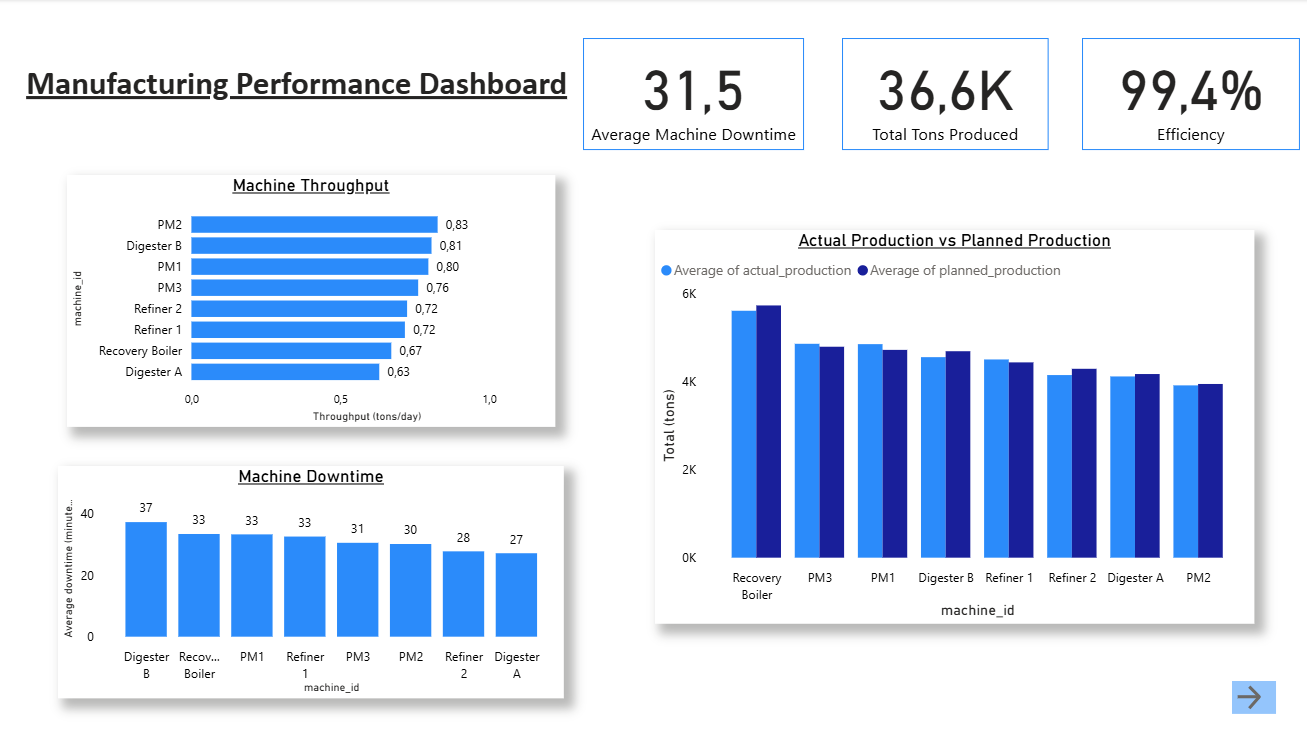

Layout of this report page (visuals, bound fields, positions):
{"tool":"powerbi","page":{"name":"Page 1","canvas":[1280,720],"ordinal":0},"visuals":[{"type":"clusteredBarChart","title":"Machine Throughput","fields":{"Category":["analytics vw_machine_performance.machine_id"],"Y":["Avg(analytics vw_machine_performance.avg_throughput_tons_per_day)"]},"box":[67.8,171.3,474.6,245.1],"z":0},{"type":"clusteredColumnChart","title":"Machine Downtime ","fields":{"Category":["analytics vw_machine_performance.machine_id"],"Y":["Avg(analytics vw_machine_performance.avg_downtime_minutes)"]},"box":[59.5,454.4,492.5,226],"z":1000},{"type":"clusteredColumnChart","title":"Actual Production vs Planned Production ","fields":{"Category":["analytics vw_machine_summary.machine_id"],"Y":["Avg(analytics vw_machine_summary.actual_production)","Avg(analytics vw_machine_summary.planned_production)"]},"box":[640,224.8,582.9,383],"z":2000},{"type":"card","fields":{"Values":["Sum(analytics vw_machine_summary.total_production_tons)"]},"box":[822,38.1,201,109.4],"z":3000},{"type":"textbox","box":[23.8,57.1,562.7,70.2],"z":4000},{"type":"card","fields":{"Values":["Avg(analytics vw_machine_performance.avg_downtime_minutes)"]},"box":[569.8,38.1,215.3,109.4],"z":6000},{"type":"actionButton","box":[1201.5,663.8,42.8,32.1],"z":6001},{"type":"card","fields":{"Values":["analytics production_by_plant.Efficiency"]},"box":[1055.2,38.1,211.7,109.4],"z":6002}]}

Visuals, with their boxes in screenshot pixels (x1, y1, x2, y2), scaled from the page's 1280x720 canvas onto the 1307x737 screenshot:
"Machine Throughput" clusteredBarChart: [left=69, top=175, right=554, bottom=426]
"Machine Downtime " clusteredColumnChart: [left=61, top=465, right=564, bottom=696]
"Actual Production vs Planned Production " clusteredColumnChart: [left=654, top=230, right=1249, bottom=622]
card - Sum(analytics vw_machine_summary.total_production_tons): [left=839, top=39, right=1045, bottom=151]
textbox: [left=24, top=58, right=599, bottom=130]
card - Avg(analytics vw_machine_performance.avg_downtime_minutes): [left=582, top=39, right=802, bottom=151]
actionButton: [left=1227, top=679, right=1271, bottom=712]
card - analytics production_by_plant.Efficiency: [left=1077, top=39, right=1294, bottom=151]
